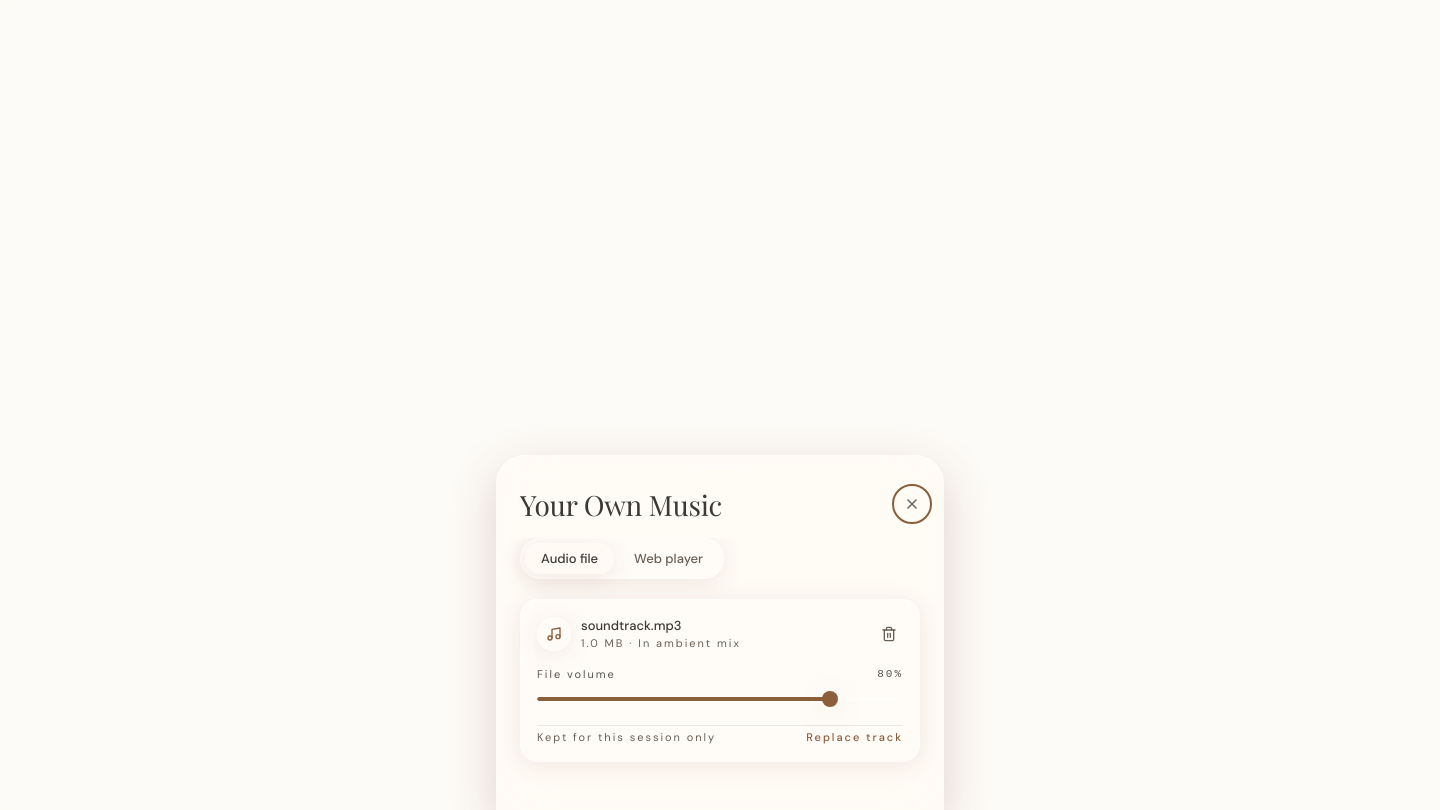
Test: OwnMusicSheet › allows removing the uploaded audio file
Earlier steps of the test are not shown.
Check: the text "soundtrack.mp3" is shown, box x1=581 y1=617 x2=681 y2=634
Click the button named "remove audio file".
click(889, 634)  # box x1=875 y1=620 x2=903 y2=648
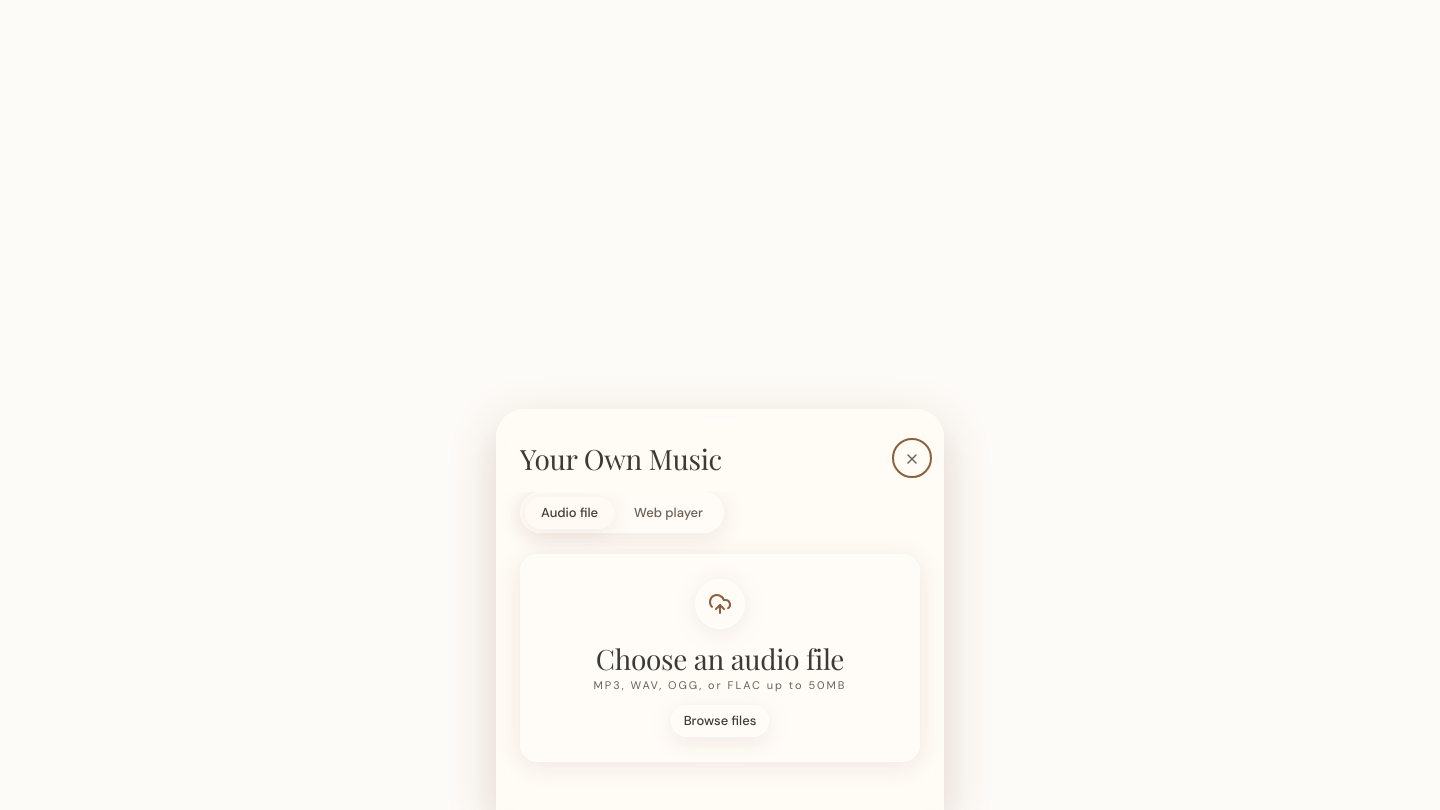
Check: the text "soundtrack.mp3" is gone
